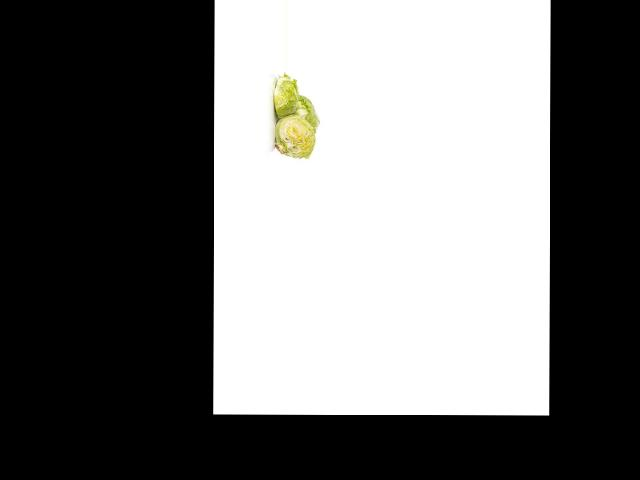lettuce: (290, 91, 321, 137)
